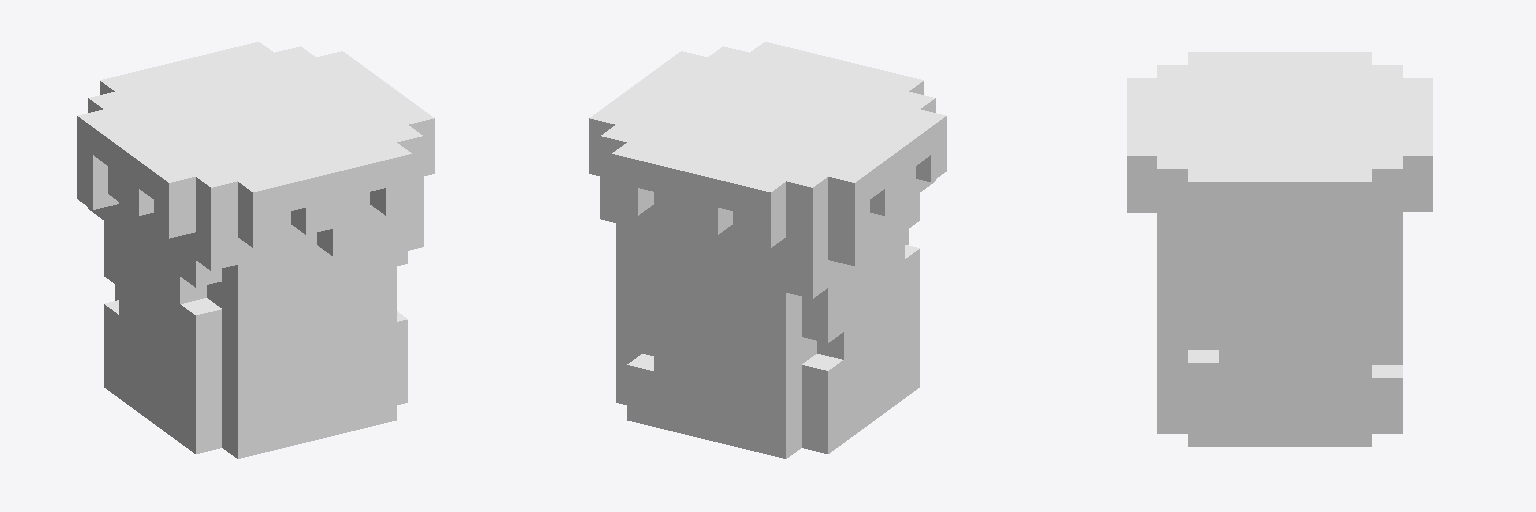
File: ground_10_10_10.obj
The picture shows the model from 3 angles: view 1: azimuth 30°, elevation 25°; view 2: azimuth 150°, elevation 25°; view 3: azimuth 270°, elevation 25°; orthographic projection.
Visible parts, largest first — view 1: object 1; view 2: object 1; view 3: object 1.
Part boxes in pixels (bbox=[...]): object 1: bbox=[77, 42, 434, 458]; object 1: bbox=[589, 42, 946, 458]; object 1: bbox=[1127, 52, 1432, 446].
Bounding box in the file's own units: 1 × 1 × 1.